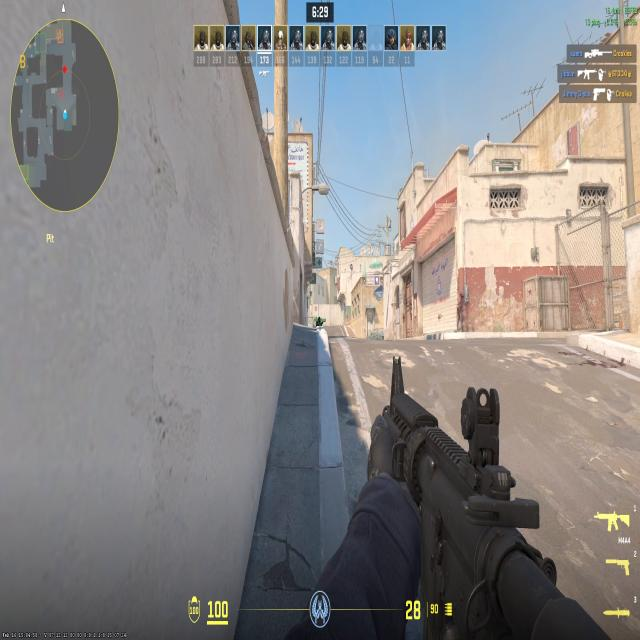player: (315, 314, 327, 333)
